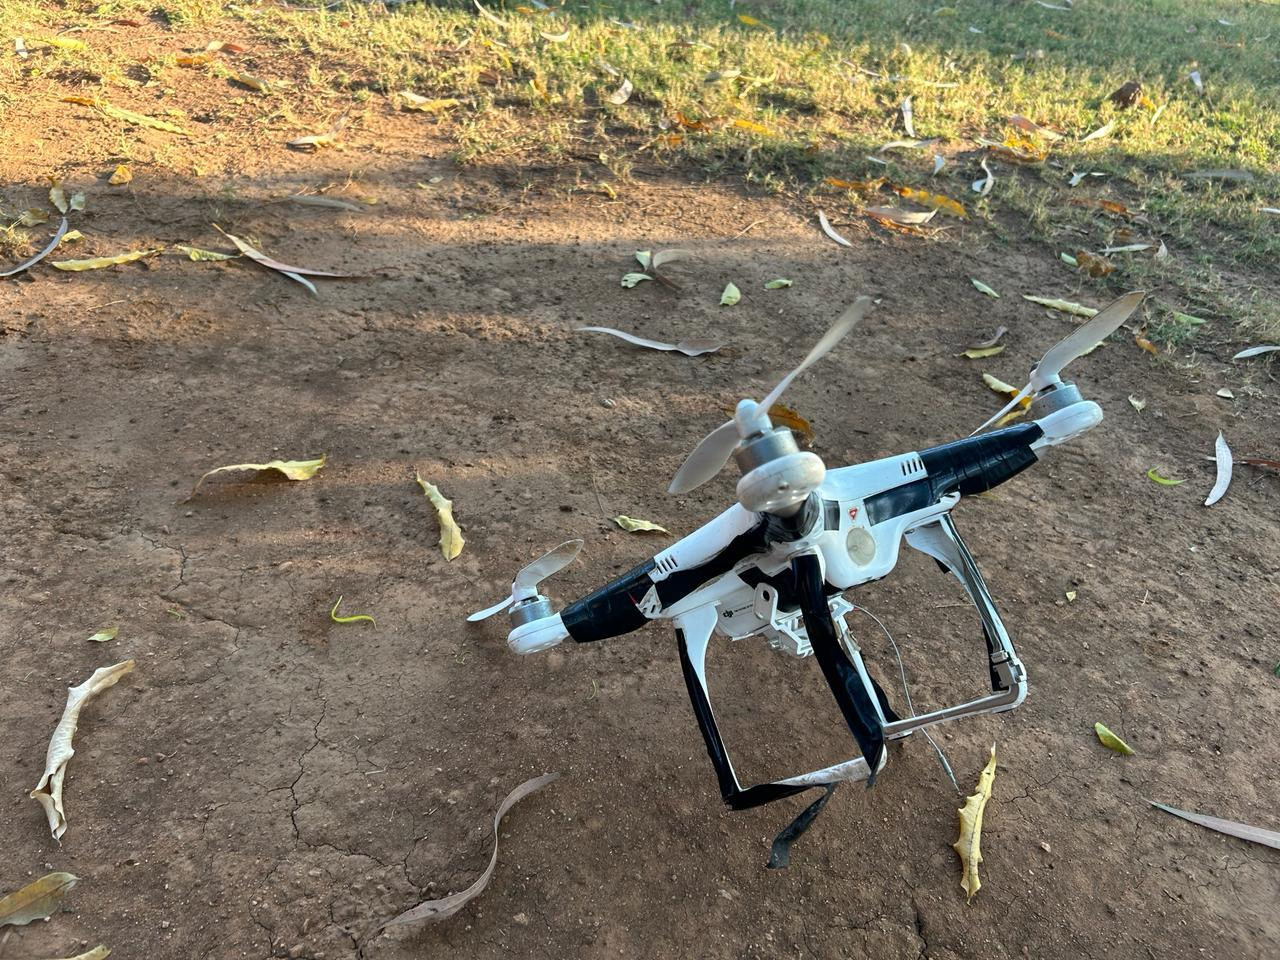drone: (355, 278, 1202, 868)
